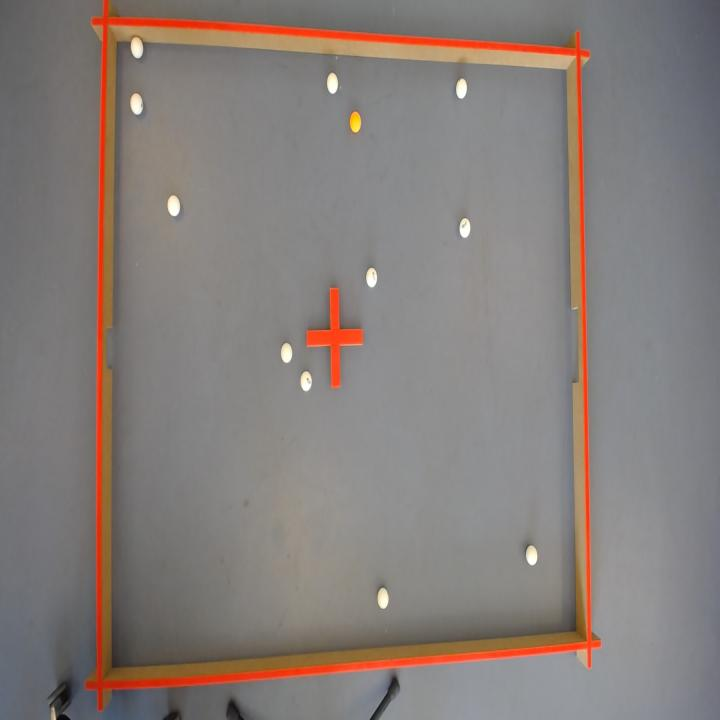orange: (350, 110, 361, 131)
white: (129, 91, 143, 114), (167, 193, 180, 215), (327, 71, 339, 92), (130, 35, 142, 56), (456, 77, 468, 97), (300, 370, 312, 390), (280, 342, 292, 362), (460, 216, 471, 237), (378, 588, 389, 609), (527, 545, 538, 566), (366, 267, 377, 286)
